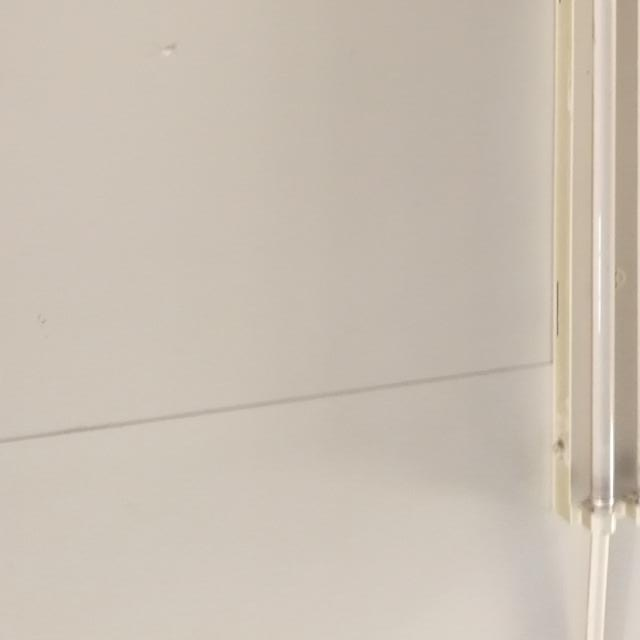fluorescent tube: (505, 0, 640, 571)
